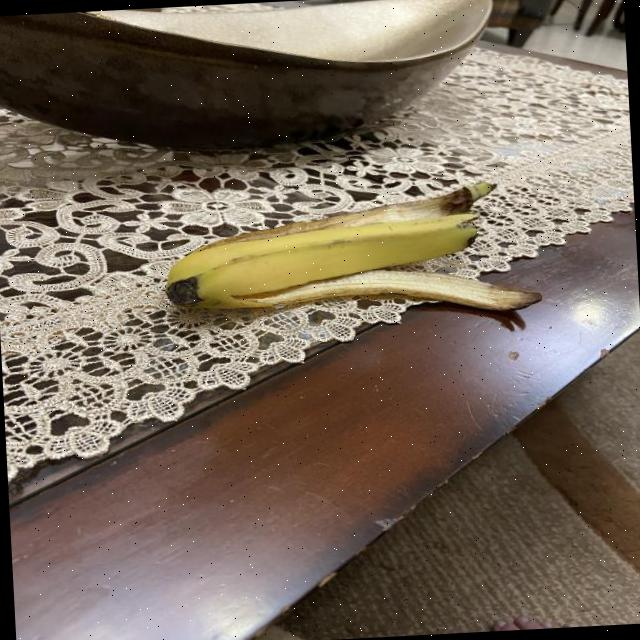banana-peel: (158, 176, 542, 332), (228, 260, 542, 326)
